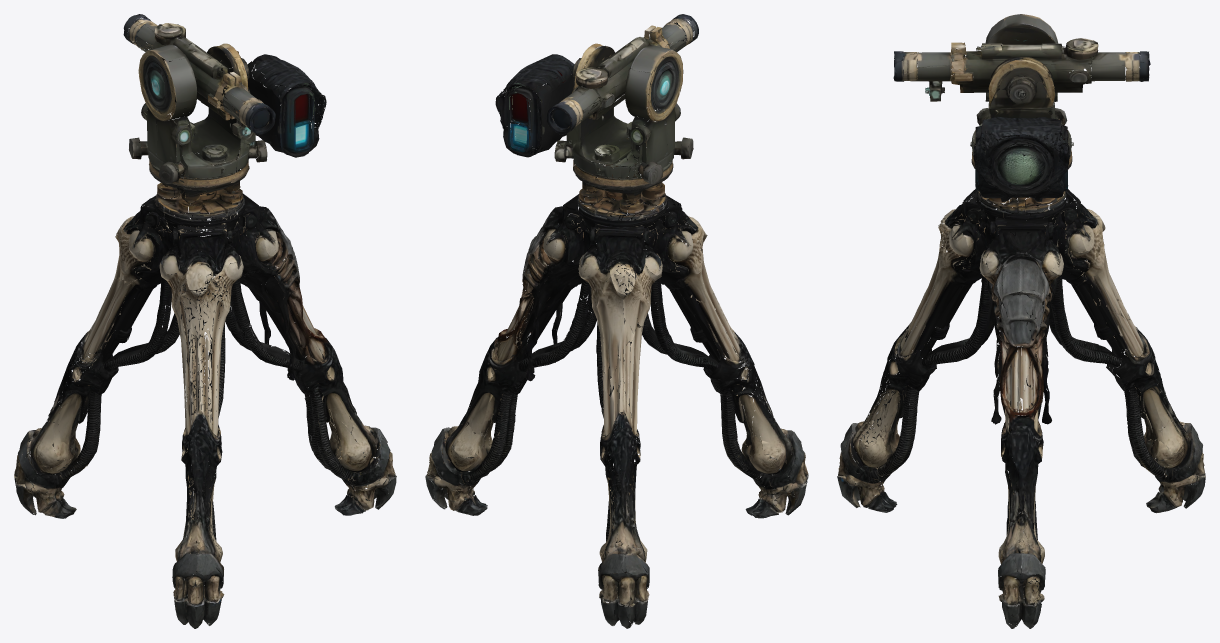
Rendered from chasm_geothermal_survey_transit.glb.
The picture shows the model from 3 angles, left to right: view 1: azimuth 30°, elevation 25°; view 2: azimuth 150°, elevation 25°; view 3: azimuth 270°, elevation 25°; orthographic projection.
Parts seen in each view (by area): view 1: node_0; view 2: node_0; view 3: node_0.
Part boxes in pixels (x1=…): node_0: x1=14, y1=14, x2=396, y2=628; node_0: x1=425, y1=14, x2=808, y2=628; node_0: x1=837, y1=14, x2=1205, y2=628.
Bounding box in the file's own units: 0.5734 × 0.9426 × 0.6185.
1 material, 1 textured.
